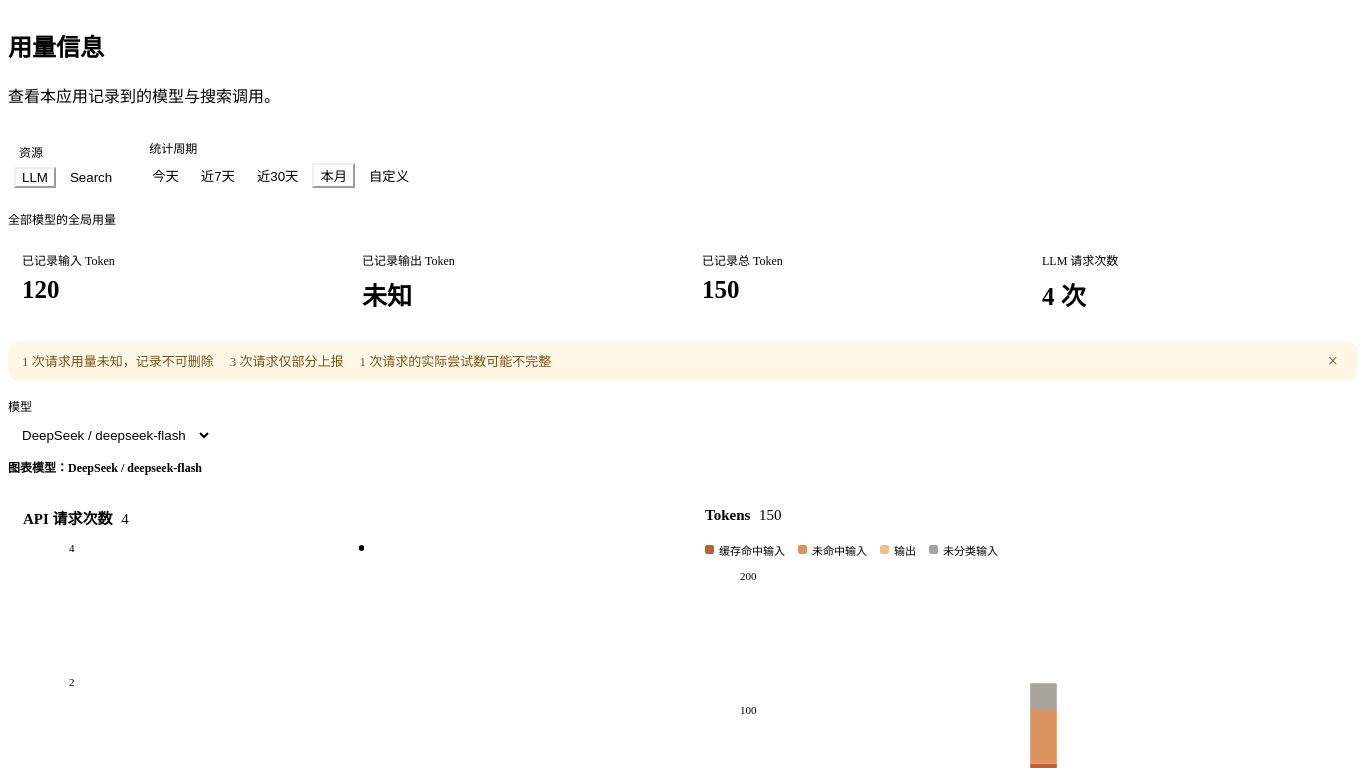
Test: UsageDashboardView › refetches for period and resource switches and keeps Search grouped by provider only
Click the button "近7天". click: (218, 175)
box: [193,163,243,188]
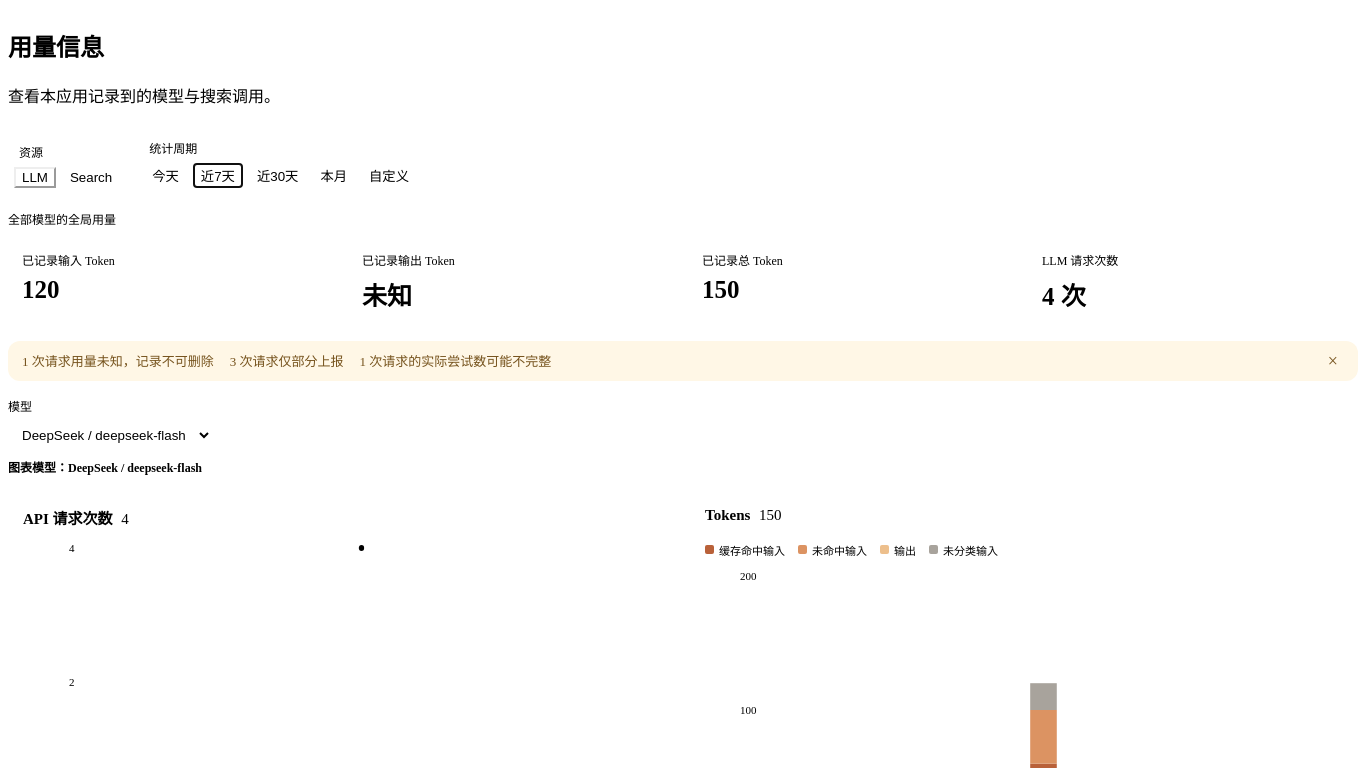
Click the button "Search". click: (91, 177)
box: [62,167,120,188]
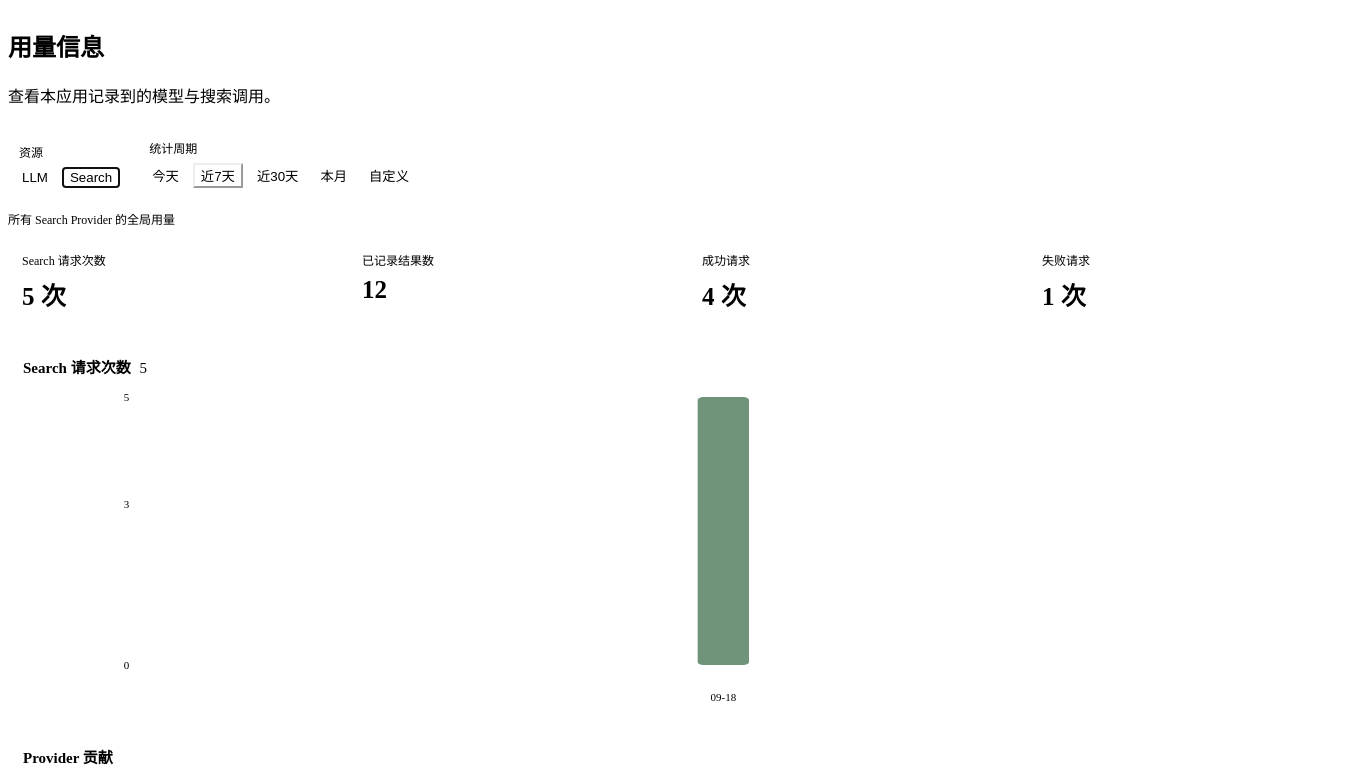
Check: the text "5 次" is shown, box [22,283,66,310]
